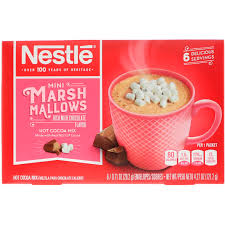Chocolate: (6, 44, 225, 192)
